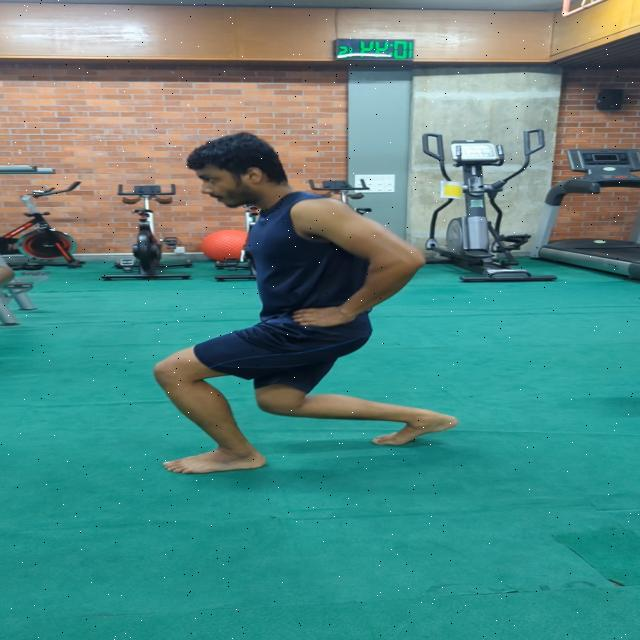Normal_Lunges: (140, 124, 468, 477)
